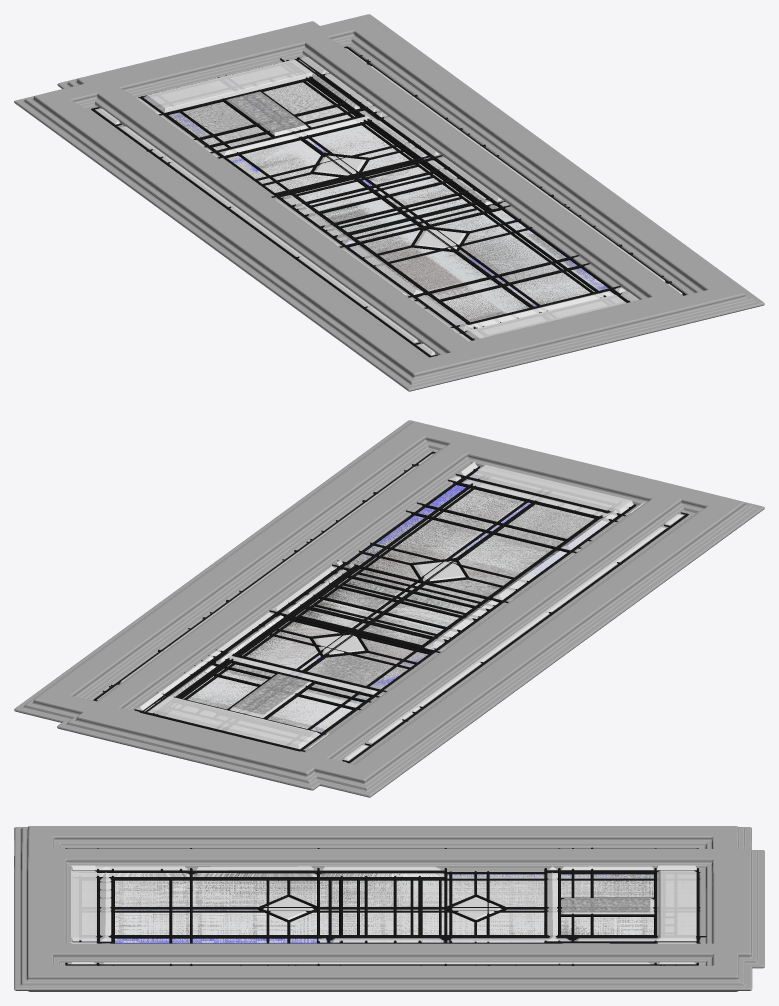
The model's file is Glass.glb.
The picture shows the model from 3 angles, top to bottom: view 1: azimuth 30°, elevation 25°; view 2: azimuth 150°, elevation 25°; view 3: azimuth 270°, elevation 25°; orthographic projection. The views are drawn at different scales.
Parts seen in each view (by area): view 1: frame, Plane, f1, material, glass, main, main4, pipe.001, pipes, pipe, main3, main6 (+9 smaller); view 2: Plane, frame, f1, material, main, main6, pipe.001, main4, pipes, Glass, pipe, main2 (+10 smaller); view 3: Plane, f1, frame, main, main4, material, main7, main8, pipe.001, Glass, pipes, pipe (+8 smaller).
Boxes of the visible parts, x1,y1,x2,y2 form: frame: [14, 14, 762, 391]; Plane: [57, 21, 686, 355]; f1: [18, 14, 764, 380]; material: [96, 48, 682, 354]; glass: [176, 81, 601, 313]; main: [169, 60, 597, 332]; main4: [175, 90, 604, 321]; pipe.001: [141, 58, 630, 339]; pipes: [146, 57, 632, 340]; pipe: [91, 46, 686, 357]; main3: [227, 108, 563, 321]; main6: [170, 85, 578, 324]; Plane: [57, 439, 687, 790]; frame: [16, 420, 764, 797]; f1: [14, 420, 759, 794]; material: [97, 454, 682, 760]; main: [147, 489, 628, 713]; main6: [252, 486, 590, 696]; pipe.001: [154, 469, 630, 751]; main4: [188, 491, 593, 732]; pipes: [140, 492, 634, 721]; Glass: [188, 485, 591, 731]; pipe: [93, 451, 688, 763]; main2: [183, 491, 590, 732]; Plane: [41, 849, 764, 968]; f1: [14, 826, 752, 991]; frame: [14, 826, 752, 988]; main: [95, 866, 696, 942]; main4: [115, 874, 653, 943]; material: [68, 865, 696, 964]; main7: [115, 874, 653, 942]; main8: [115, 874, 653, 942]; pipe.001: [79, 871, 706, 943]; Glass: [115, 874, 653, 943]; pipes: [95, 847, 700, 965]; pipe: [65, 848, 699, 965].
Size of the model in its own units: 4 by 0.1836 by 7.83.
Materials: 21 (14 with a texture image).
